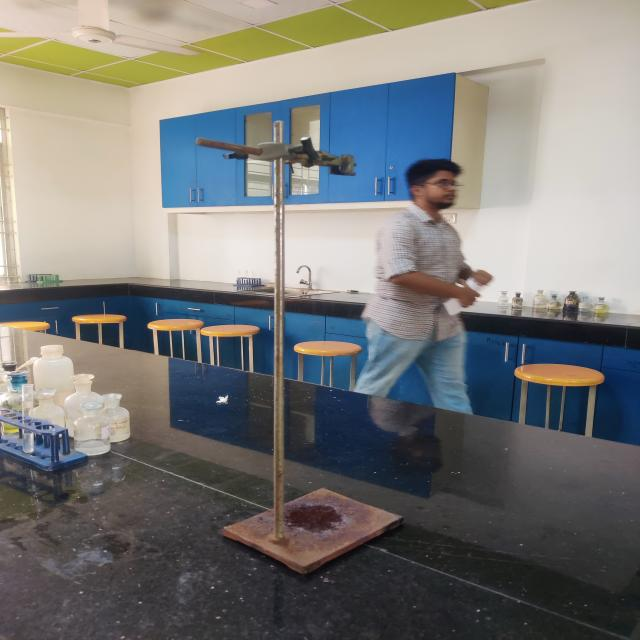Burette_Stands: (185, 103, 415, 587)
